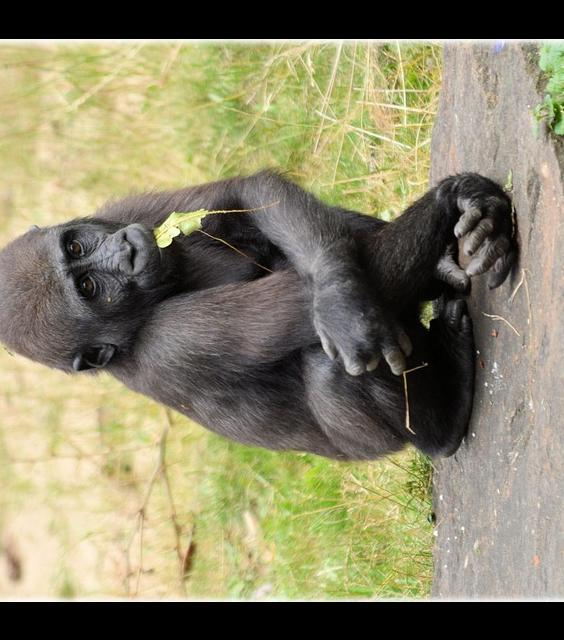gorille_Autres: (0, 100, 564, 440)
